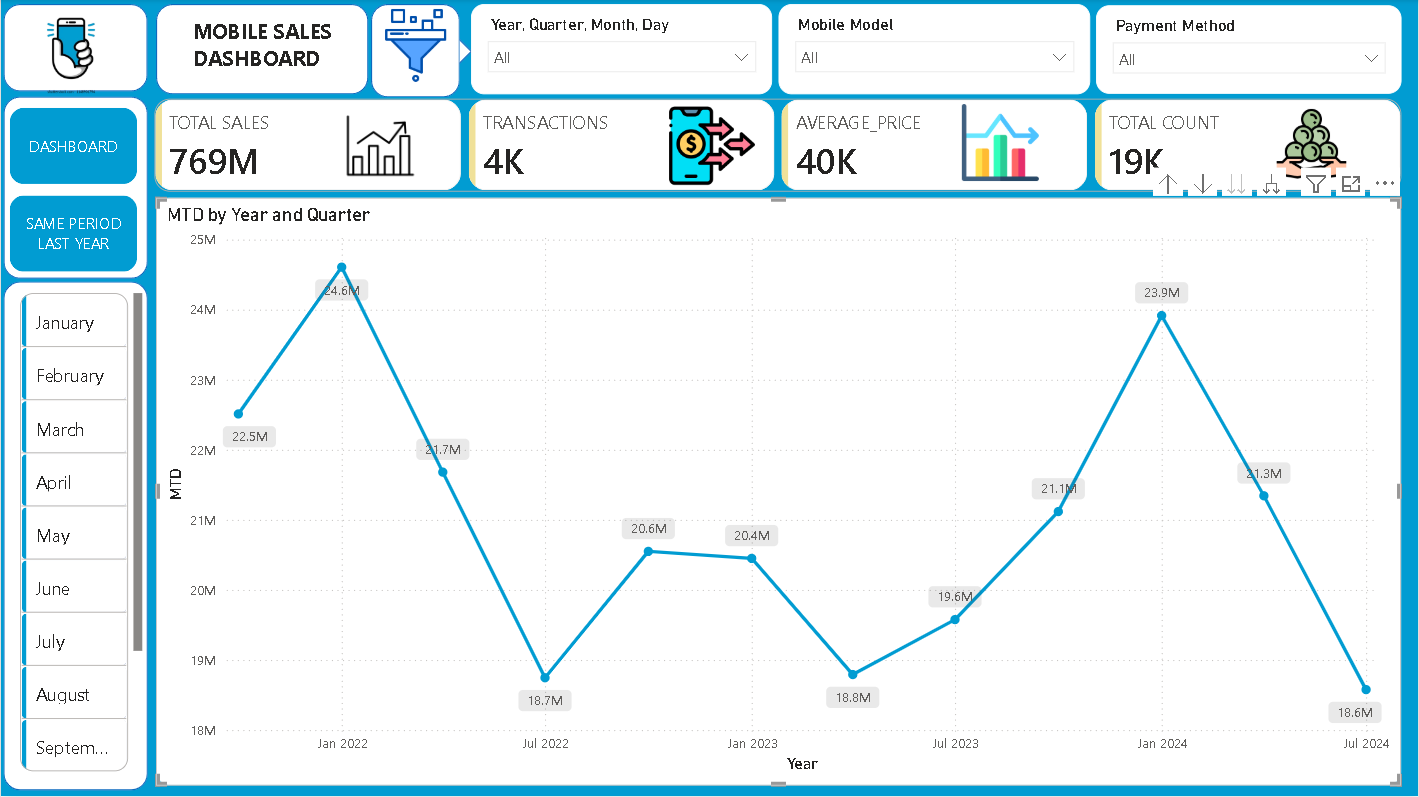

What the dashboard file says about the page in this screenshot:
{"tool":"powerbi","page":{"name":"SAME PERIOD LAST YEAR","canvas":[1280,720],"ordinal":2},"visuals":[{"type":"shape","box":[340.1,17.7,85.7,58.5],"z":0},{"type":"shape","box":[2.3,4.7,130.2,79.1],"z":1000},{"type":"image","box":[17.8,8.2,90.6,78.2],"z":2000},{"type":"shape","box":[2.7,87.8,130.4,164.7],"z":3000},{"type":"group","id":"g1","title":"Group 2","box":[123.8,76.2,1156.5,112.9],"z":4000},{"type":"slicer","fields":{"Values":["Mobile_sales_data.Mobile Model"]},"box":[702,4.1,281.6,81.6],"z":5000},{"type":"cardVisual","title":"dcvvx","fields":{"Data":["Mobile_sales_data.total sales","Mobile_sales_data.transactions","Mobile_sales_data.Average_price","Mobile_sales_data.TOTAL COUNT"]},"box":[123.8,76.2,1156.5,112.9],"z":5000,"group":"g1"},{"type":"slicer","fields":{"Values":["custom_calender.Column1.Variation.Date Hierarchy.Year","custom_calender.Column1.Variation.Date Hierarchy.Quarter","custom_calender.Column1.Variation.Date Hierarchy.Month","custom_calender.Column1.Variation.Date Hierarchy.Day"]},"box":[424.5,4.1,272.1,81.6],"z":6000},{"type":"slicer","fields":{"Values":["Mobile_sales_data.Payment Method"]},"box":[987.8,5.4,276.2,80.3],"z":7000},{"type":"image","box":[823,95.8,159.1,69.8],"z":7000,"group":"g2"},{"type":"shape","box":[334.7,4.1,80.3,84.4],"z":8000},{"type":"image","box":[334.7,8.2,80.3,68],"z":9000},{"type":"shape","box":[140.1,4.1,191.8,81.6],"z":10000},{"type":"image","box":[280.7,94.5,123.1,77.4],"z":10000,"group":"g2"},{"type":"image","box":[1119,98.3,130,67.2],"z":10500,"group":"g2"},{"type":"textbox","box":[168.7,10.9,140.1,65.3],"z":11000},{"type":"image","box":[587.8,94.5,107.9,77.4],"z":11000,"group":"g2"},{"type":"group","id":"g2","title":"Group 1","box":[280.7,94.5,968.3,77.4],"z":11001,"group":"g1"},{"type":"shape","box":[2.7,255.2,130.4,459.7],"z":12000},{"type":"advancedSlicerVisual","fields":{"Values":["custom_calender.Column1.Variation.Date Hierarchy.Month"]},"box":[12.3,260.7,120.8,448.7],"z":13000},{"type":"tableEx","fields":{"Values":["custom_calender.Column1.Variation.Date Hierarchy.Year","custom_calender.Column1.Variation.Date Hierarchy.Quarter","Mobile_sales_data.TOTAL SALES","Mobile_sales_data.SAME PERIOD LAST YEAR"]},"box":[140.1,178.2,447.6,288.4],"z":14000},{"type":"clusteredColumnChart","fields":{"Category":["custom_calender.Column1.Variation.Date Hierarchy.Year","custom_calender.Column1.Variation.Date Hierarchy.Quarter"],"Y":["Mobile_sales_data.TOTAL SALES","Mobile_sales_data.SAME PERIOD LAST YEAR"]},"box":[594.6,178.2,669.4,288.4],"z":15000},{"type":"clusteredColumnChart","fields":{"Category":["custom_calender.Column1.Variation.Date Hierarchy.Year","custom_calender.Column1.Variation.Date Hierarchy.Quarter"],"Y":["Mobile_sales_data.TOTAL SALES","Mobile_sales_data.SAME PERIOD LAST YEAR"]},"box":[594.6,470.7,669.4,239.5],"z":16000},{"type":"clusteredColumnChart","fields":{"Category":["custom_calender.Column1.Variation.Date Hierarchy.Year","custom_calender.Column1.Variation.Date Hierarchy.Quarter"],"Y":["Mobile_sales_data.TOTAL SALES","Mobile_sales_data.SAME PERIOD LAST YEAR"]},"box":[140.1,470.7,447.6,239.5],"z":17000},{"type":"pageNavigator","box":[8.2,98,115.6,148.3],"z":18000}]}

Visuals, with their boxes on the page's 1280x720 design canvas (x1, y1, x2, y2). These are canvas units, not pixel positions in the 1419x797 screenshot, which may show the page scaled, cropped or inside an application window:
shape: [left=340, top=18, right=426, bottom=76]
shape: [left=2, top=5, right=132, bottom=84]
image: [left=18, top=8, right=108, bottom=86]
shape: [left=3, top=88, right=133, bottom=252]
"Group 2" group: [left=124, top=76, right=1280, bottom=189]
slicer - Mobile_sales_data.Mobile Model: [left=702, top=4, right=984, bottom=86]
"dcvvx" cardVisual: [left=124, top=76, right=1280, bottom=189]
slicer - custom_calender.Column1.Variation.Date Hierarchy.Year x custom_calender.Column1.Variation.Date Hierarchy.Quarter: [left=424, top=4, right=697, bottom=86]
slicer - Mobile_sales_data.Payment Method: [left=988, top=5, right=1264, bottom=86]
image: [left=823, top=96, right=982, bottom=166]
shape: [left=335, top=4, right=415, bottom=88]
image: [left=335, top=8, right=415, bottom=76]
shape: [left=140, top=4, right=332, bottom=86]
image: [left=281, top=94, right=404, bottom=172]
image: [left=1119, top=98, right=1249, bottom=166]
textbox: [left=169, top=11, right=309, bottom=76]
image: [left=588, top=94, right=696, bottom=172]
"Group 1" group: [left=281, top=94, right=1249, bottom=172]
shape: [left=3, top=255, right=133, bottom=715]
advancedSlicerVisual - custom_calender.Column1.Variation.Date Hierarchy.Month: [left=12, top=261, right=133, bottom=709]
tableEx - custom_calender.Column1.Variation.Date Hierarchy.Year x custom_calender.Column1.Variation.Date Hierarchy.Quarter: [left=140, top=178, right=588, bottom=467]
clusteredColumnChart - custom_calender.Column1.Variation.Date Hierarchy.Year x custom_calender.Column1.Variation.Date Hierarchy.Quarter: [left=595, top=178, right=1264, bottom=467]
clusteredColumnChart - custom_calender.Column1.Variation.Date Hierarchy.Year x custom_calender.Column1.Variation.Date Hierarchy.Quarter: [left=595, top=471, right=1264, bottom=710]
clusteredColumnChart - custom_calender.Column1.Variation.Date Hierarchy.Year x custom_calender.Column1.Variation.Date Hierarchy.Quarter: [left=140, top=471, right=588, bottom=710]
pageNavigator: [left=8, top=98, right=124, bottom=246]
